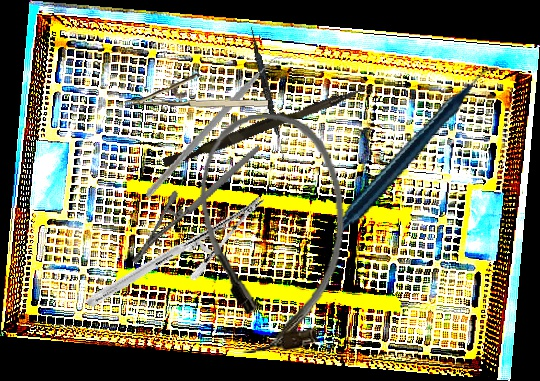Cannula: (192, 109, 355, 356)
Chopper: (145, 34, 292, 220)
Handpiece: (312, 66, 524, 236)
Needle Holder: (84, 147, 267, 356), (109, 144, 283, 267), (123, 70, 270, 112)
Pusher: (162, 78, 367, 173)
Spatula Surgical: (245, 25, 290, 163)
